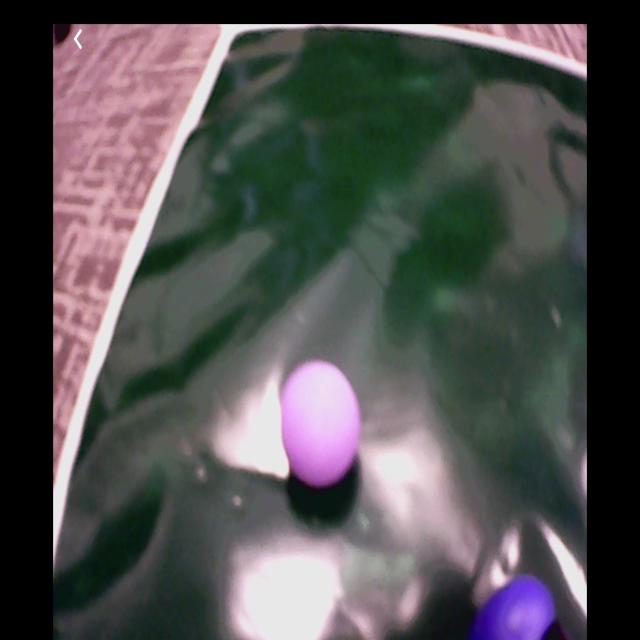ball: (281, 361, 360, 485), (473, 576, 555, 640)
